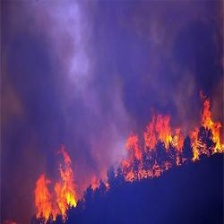fire: (23, 98, 224, 219)
smoke: (14, 1, 222, 90)
